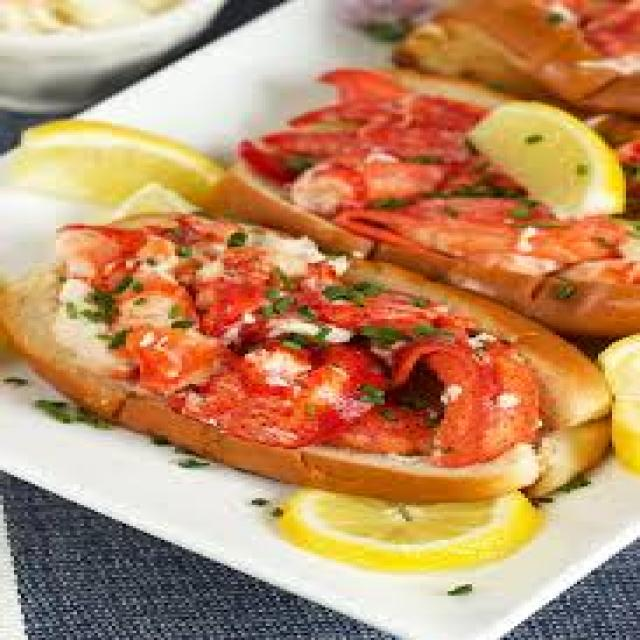lemon: (482, 102, 630, 216)
